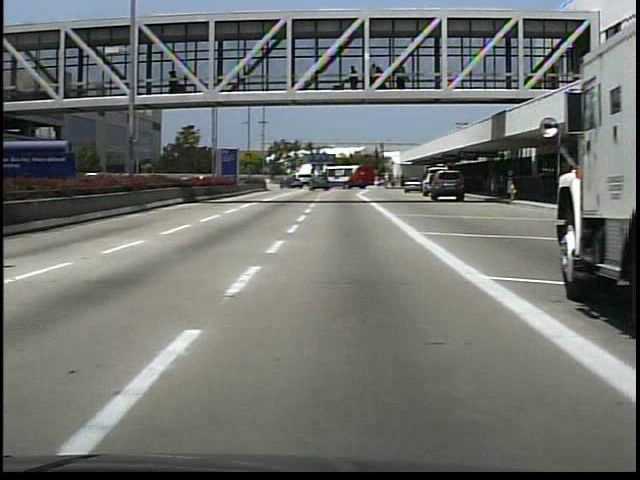person: (345, 61, 363, 93), (167, 68, 185, 96), (487, 170, 502, 200)
